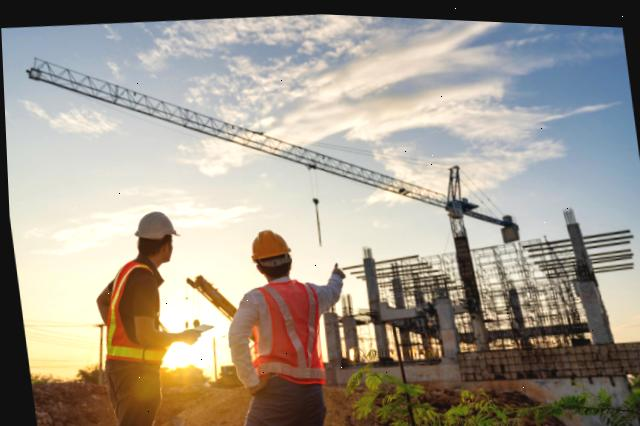helmet: (242, 223, 287, 262), (128, 208, 174, 241)
vest: (239, 277, 322, 386), (90, 258, 169, 364)
